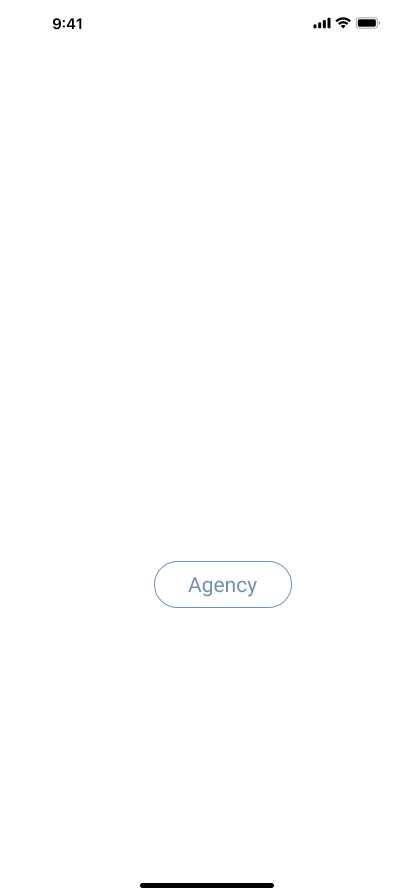Buttons: (154, 561, 300, 608)
Home Indicator: (0, 862, 414, 896)
Status Bar: (0, 0, 414, 44)
